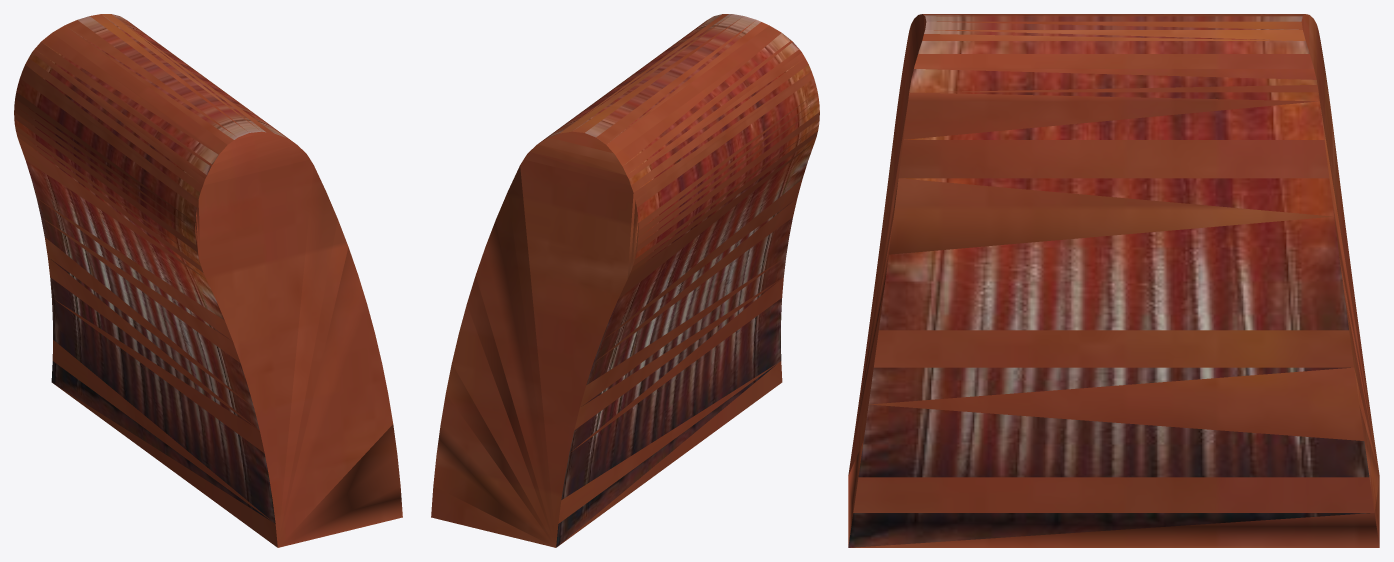
The model's file is backseat.obj.
The picture shows the model from 3 angles, left to right: view 1: azimuth 30°, elevation 25°; view 2: azimuth 150°, elevation 25°; view 3: azimuth 270°, elevation 25°; orthographic projection. The views are drawn at different scales.
Parts seen in each view (by area): view 1: backseat_mesh1_mesh1-geometry; view 2: backseat_mesh1_mesh1-geometry; view 3: backseat_mesh1_mesh1-geometry.
Part boxes in pixels (x1,y1,x2,y2): backseat_mesh1_mesh1-geometry: (14,14,402,547); backseat_mesh1_mesh1-geometry: (431,14,819,547); backseat_mesh1_mesh1-geometry: (848,14,1379,547).
Bounding box in the file's own units: 0.1638 × 0.3299 × 0.3473.
